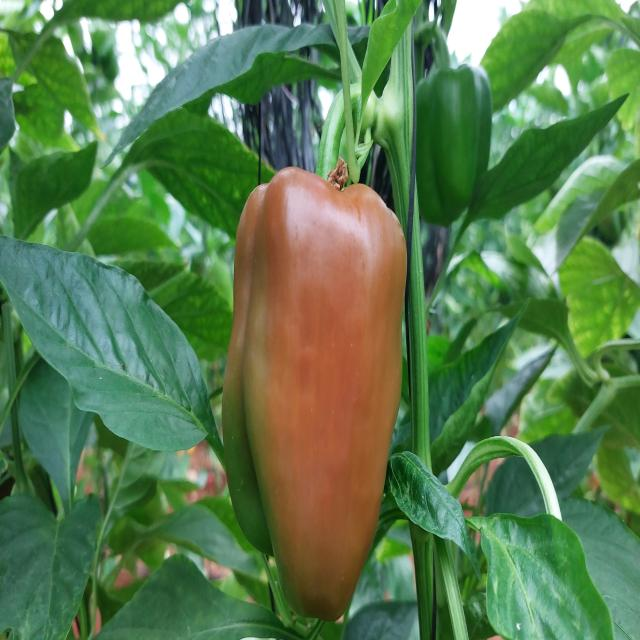BrownishRed--Can-be-Harvested: (241, 177, 403, 612)
